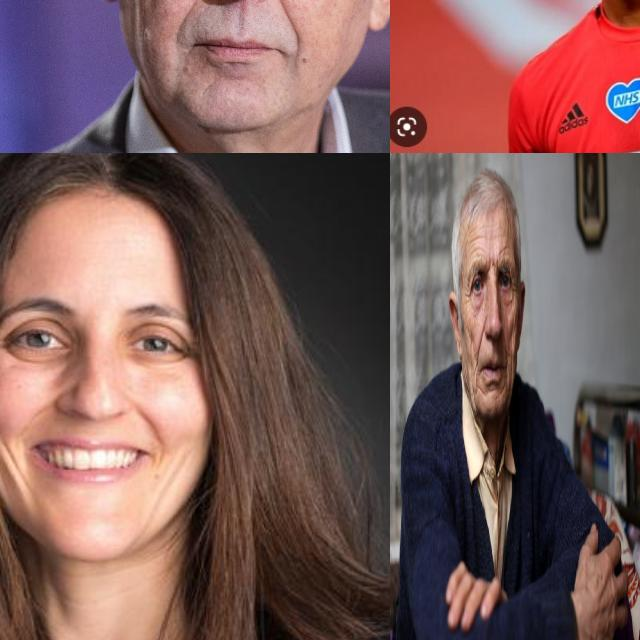chin: (473, 376, 485, 402), (495, 383, 504, 402)
crows_feet: (0, 331, 9, 363), (510, 270, 516, 302), (464, 282, 470, 306)
forehead: (468, 224, 481, 252), (499, 243, 510, 256)
frown_line: (487, 252, 496, 276)
gummy_smile: (270, 0, 304, 40), (128, 398, 162, 436), (175, 0, 202, 41), (24, 392, 56, 422), (475, 325, 485, 362), (502, 330, 508, 361)
masseter: (168, 443, 190, 503), (0, 431, 20, 488), (462, 349, 468, 388), (509, 337, 514, 373)
